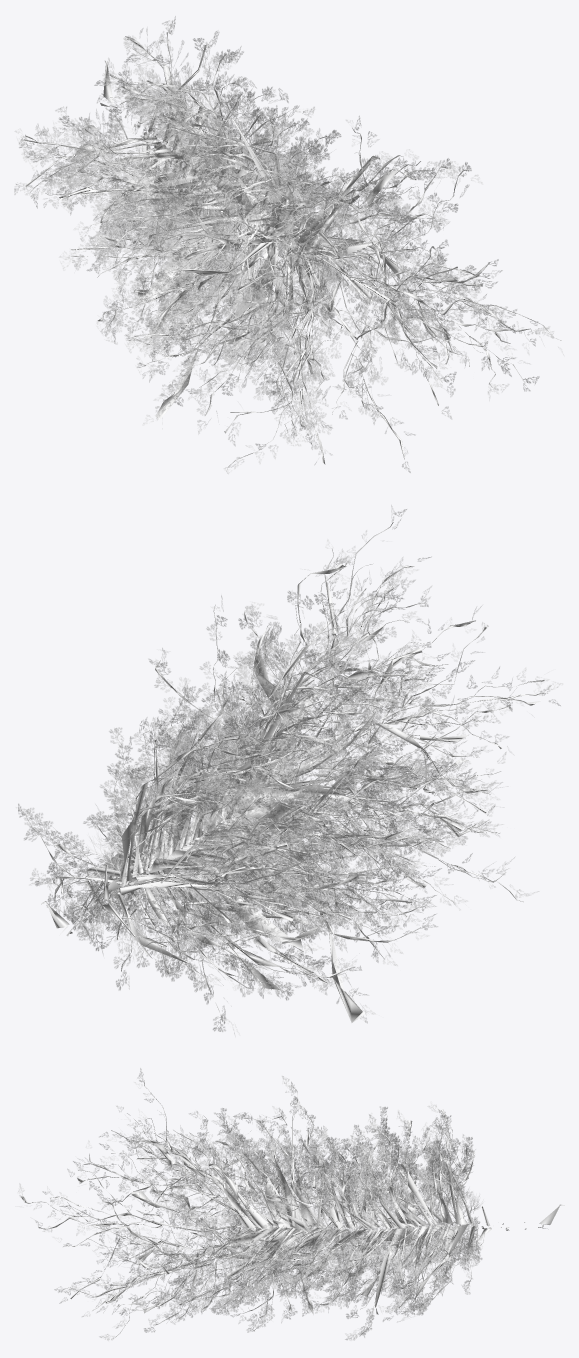
Rendered from FrostedPine.glb.
3 renders of one model, top to bottom at view 1: azimuth 30°, elevation 25°; view 2: azimuth 150°, elevation 25°; view 3: azimuth 270°, elevation 25°, orthographic. The views are drawn at different scales.
Visible parts, largest first — view 1: Needle_Cluster_1.003, Bark.003, Needle_Cluster_2.003, Needle_Cluster_3.003; view 2: Needle_Cluster_1.003, Bark.003, Needle_Cluster_2.003, Needle_Cluster_3.003; view 3: Needle_Cluster_1.003, Bark.003, Needle_Cluster_2.003, Needle_Cluster_3.003.
Boxes of the visible parts, left/top/right/bottom form: Needle_Cluster_1.003: left=14, top=20, right=563, bottom=473; Bark.003: left=24, top=32, right=561, bottom=471; Needle_Cluster_2.003: left=16, top=16, right=550, bottom=445; Needle_Cluster_3.003: left=90, top=66, right=387, bottom=336; Needle_Cluster_1.003: left=18, top=509, right=560, bottom=1033; Bark.003: left=26, top=522, right=548, bottom=1022; Needle_Cluster_2.003: left=16, top=505, right=562, bottom=1035; Needle_Cluster_3.003: left=54, top=689, right=359, bottom=962; Needle_Cluster_1.003: left=19, top=1068, right=482, bottom=1340; Bark.003: left=21, top=1080, right=564, bottom=1338; Needle_Cluster_2.003: left=17, top=1073, right=484, bottom=1340; Needle_Cluster_3.003: left=213, top=1160, right=483, bottom=1289.
Bounding box in the file's own units: 6.5 × 6.69 × 12.05.
Materials: 5 (5 with a texture image).
